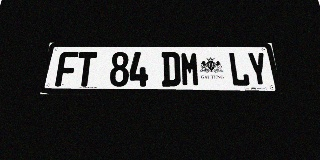4: (129, 52, 148, 86)
8: (109, 52, 130, 86)
D: (162, 52, 181, 86)
F: (55, 52, 79, 86)
L: (228, 52, 251, 86)
M: (180, 52, 200, 86)
T: (75, 52, 97, 86)
Y: (246, 52, 270, 86)
